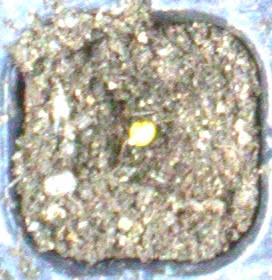pepper seed: (50, 46, 207, 195)
